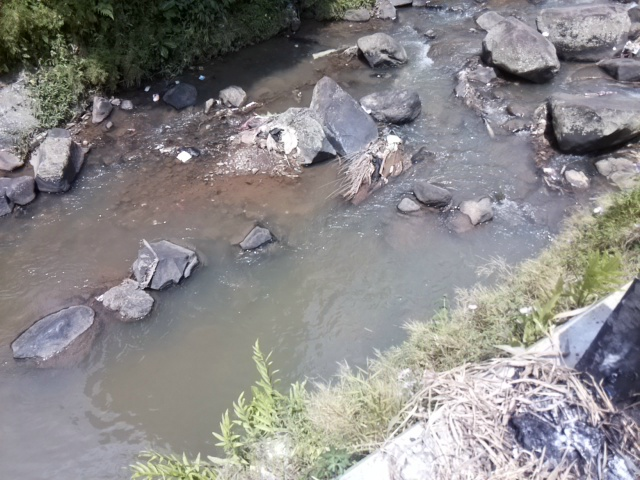Sampah_Styrofoam: (176, 149, 193, 164)
